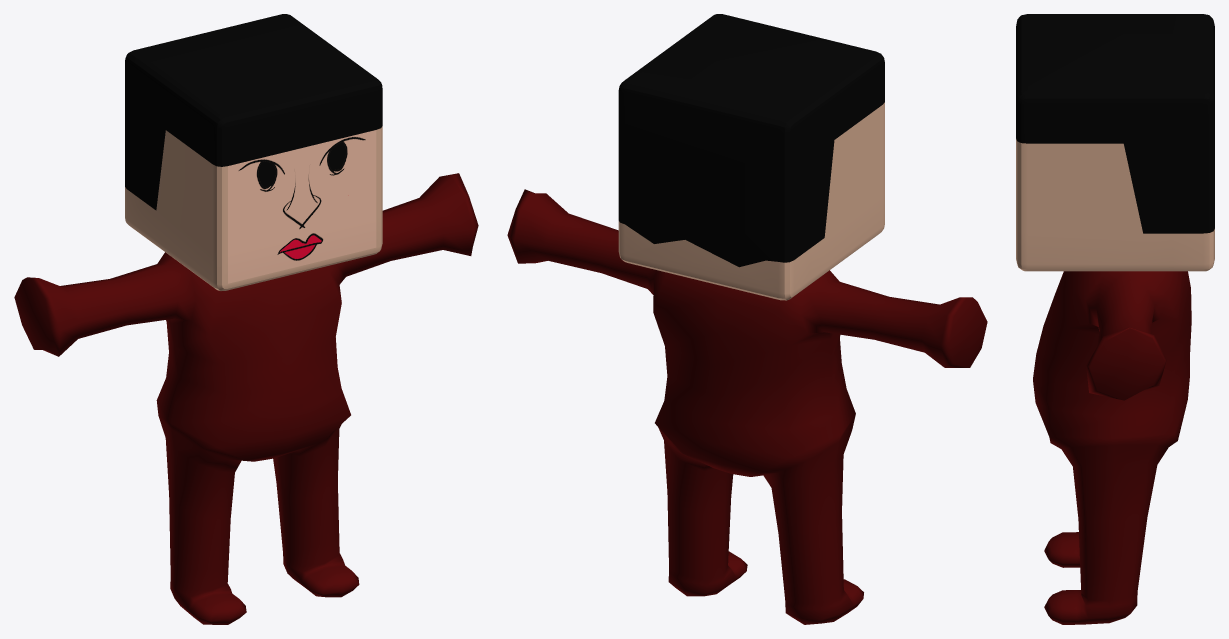
The model's file is illhoon2.fbx.
3 views of the same model, side by side, from view 1: azimuth 30°, elevation 25°; view 2: azimuth 150°, elevation 25°; view 3: azimuth 270°, elevation 25° (orthographic). The views are drawn at different scales.
Visible parts, largest first — view 1: Head; view 2: Head; view 3: Head.
Part boxes in pixels (x1,y1,x2,y2): Head: (14,14,478,624); Head: (507,14,987,624); Head: (1016,14,1214,624).
Bounding box in the file's own units: 35.97 × 41.66 × 13.94.
